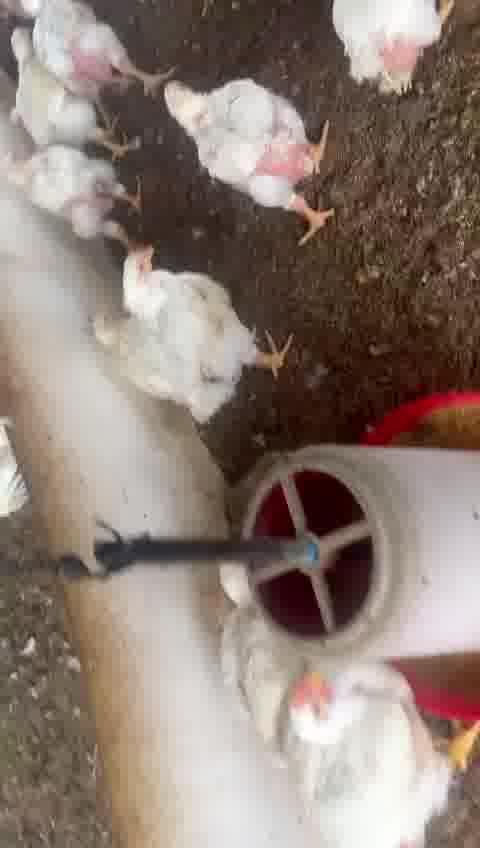Normal: (265, 675, 471, 848), (164, 79, 338, 241), (127, 250, 301, 372), (10, 151, 146, 252), (24, 7, 174, 96)
